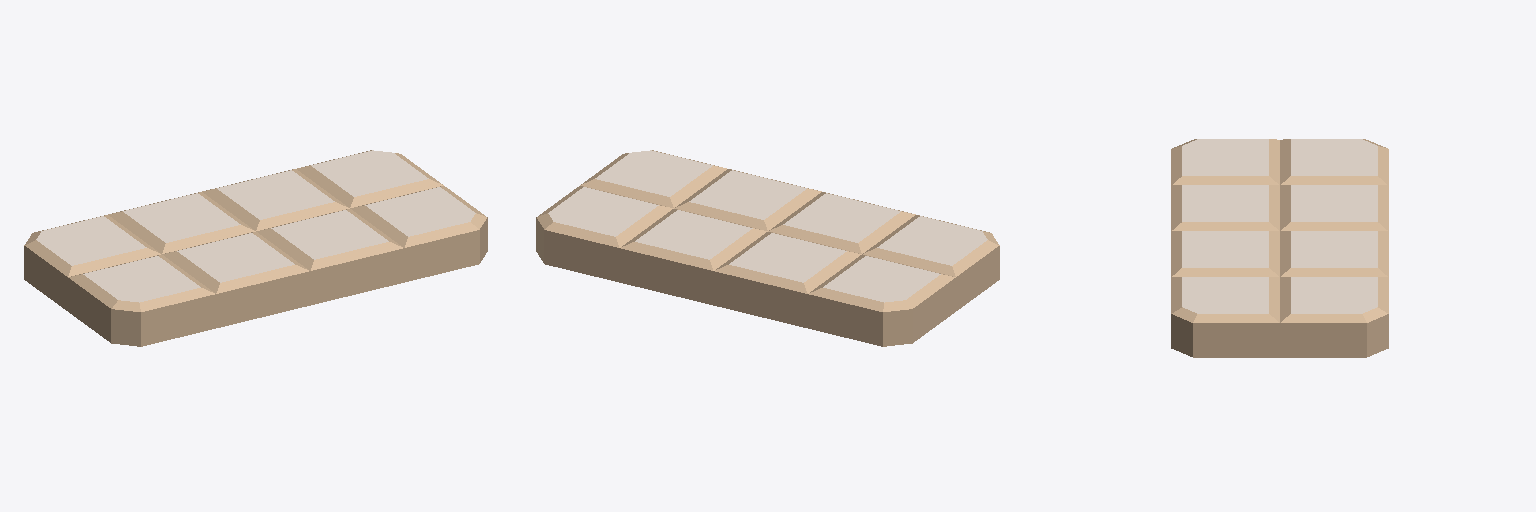
Rendered from Puzzle_Sliding_Platform_1x2.obj.
3 views of the same model, side by side, from view 1: azimuth 30°, elevation 25°; view 2: azimuth 150°, elevation 25°; view 3: azimuth 270°, elevation 25° (orthographic).
Parts seen in each view (by area): view 1: object1; view 2: object1; view 3: object1.
Part boxes in pixels (left/top/right/bottom): object1: left=24, top=150, right=487, bottom=346; object1: left=536, top=150, right=999, bottom=346; object1: left=1171, top=139, right=1388, bottom=357.
Bounding box in the file's own units: 2 × 0.3 × 1.